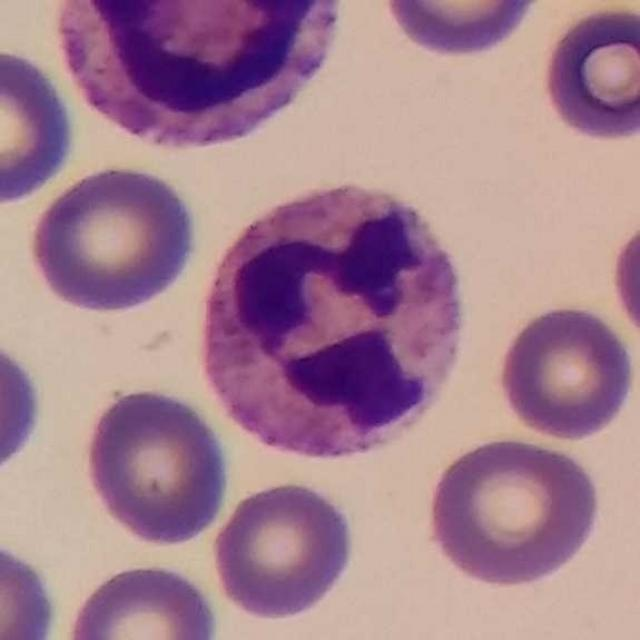Neutrophil: (184, 169, 483, 480), (39, 0, 361, 167)
RBC: (420, 432, 606, 590), (23, 160, 204, 317), (78, 383, 233, 550), (207, 476, 360, 624), (492, 299, 639, 443), (536, 1, 640, 147), (61, 557, 222, 640), (0, 42, 79, 210), (377, 0, 551, 62), (0, 329, 48, 486), (0, 535, 62, 639), (606, 209, 640, 353)
